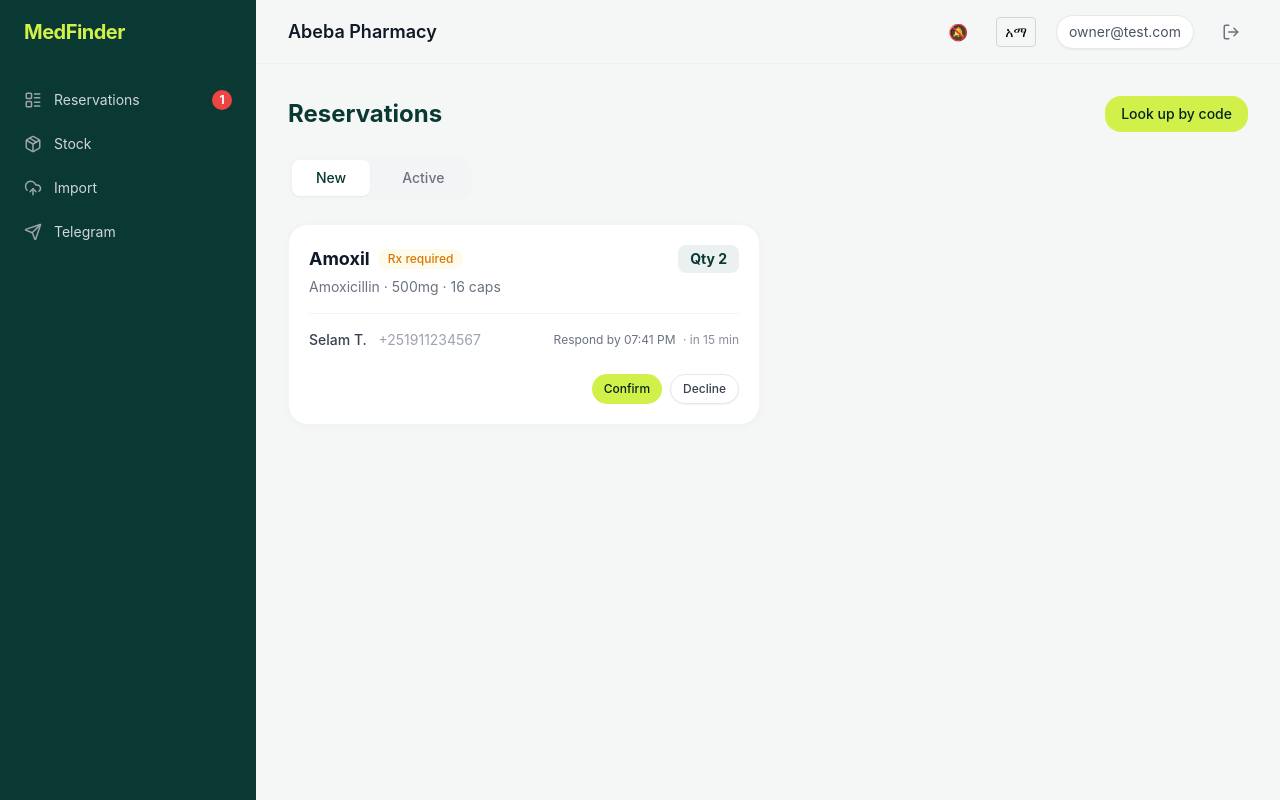
it: ReservationsPage › cancels the dialog without sending a request
Expected: the text "Amoxil" is shown, [309,248,370,269]
Click the button "Confirm": (627, 389) [592,374,662,404]
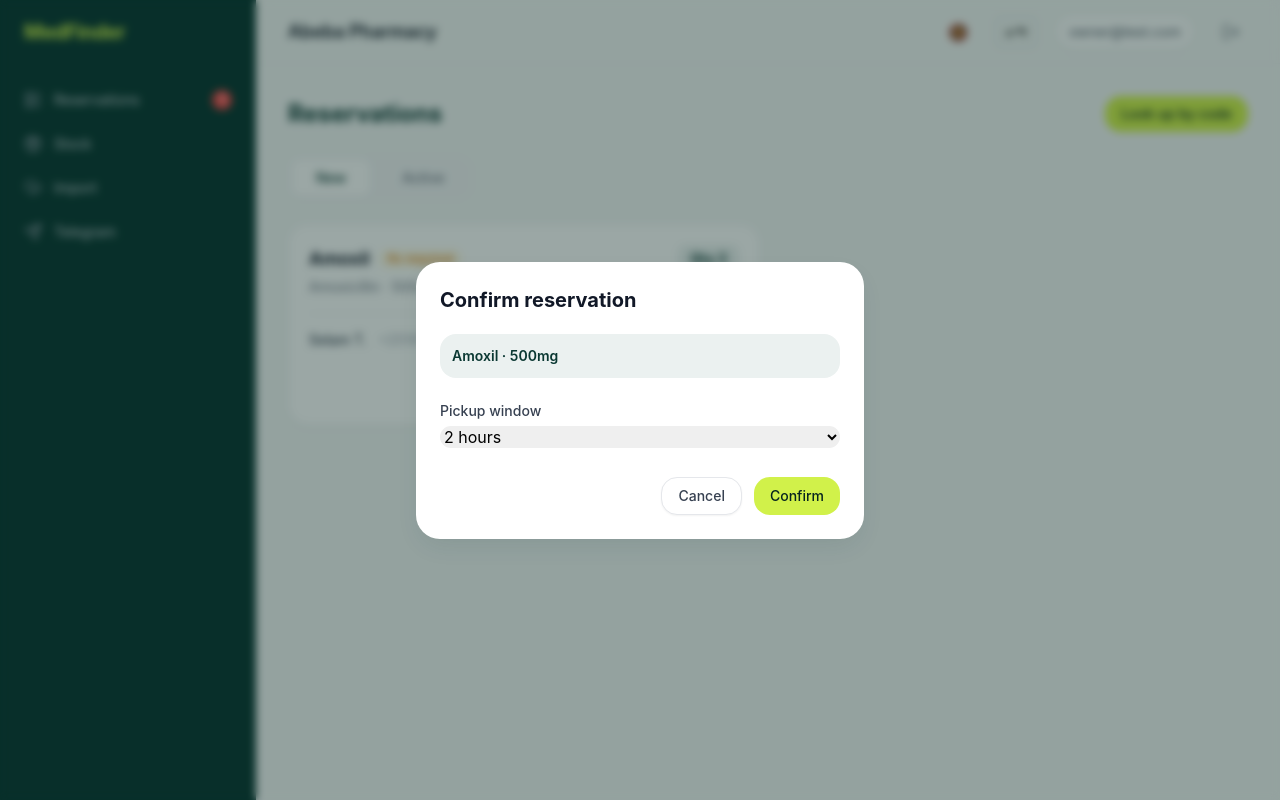
Click the button "Cancel": (702, 496) [662,476,742,514]
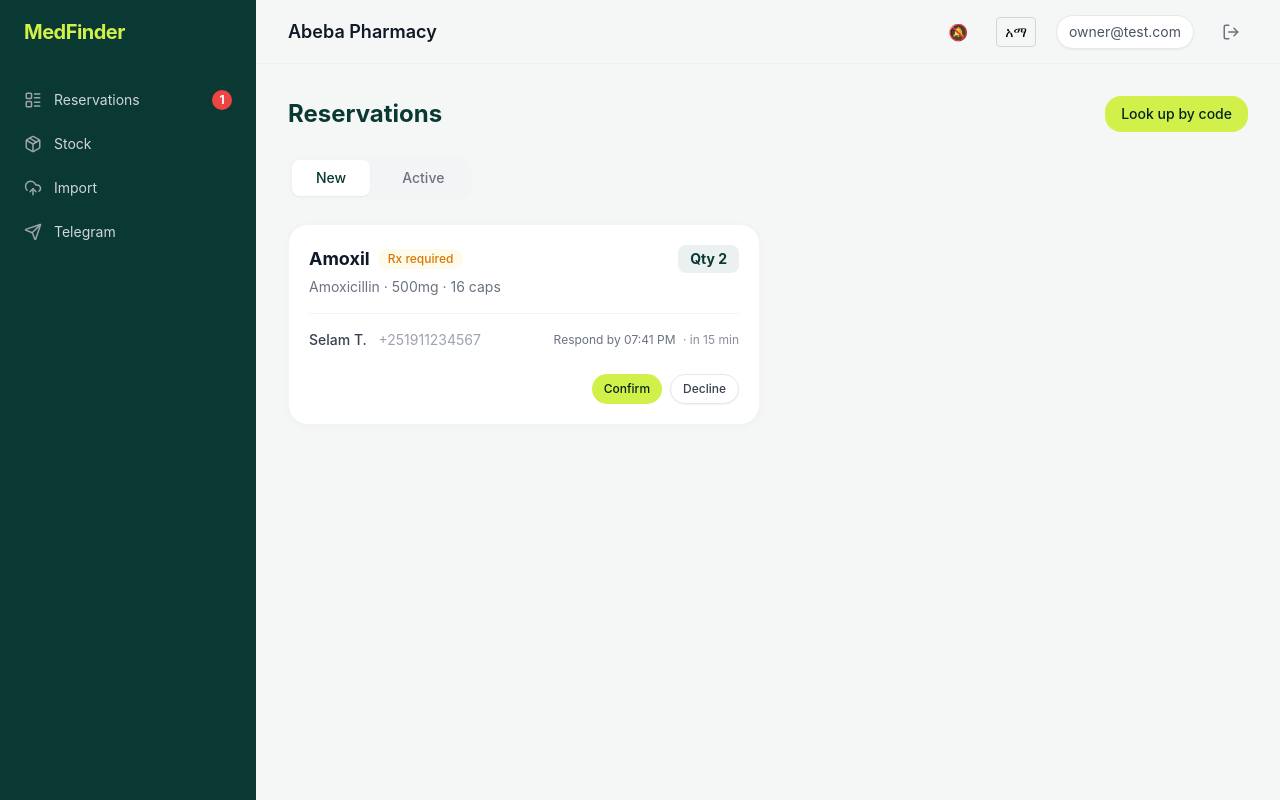
Expected: the dialog is gone
